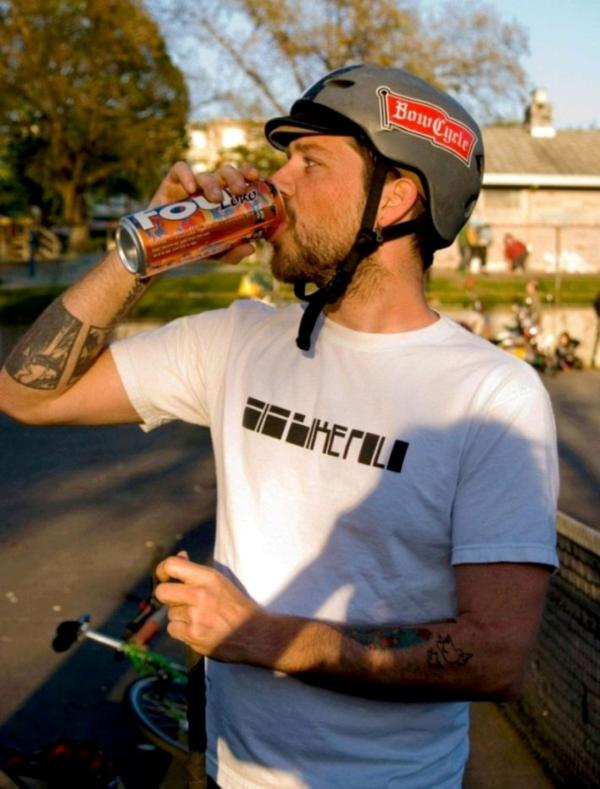person: (3, 62, 563, 788)
